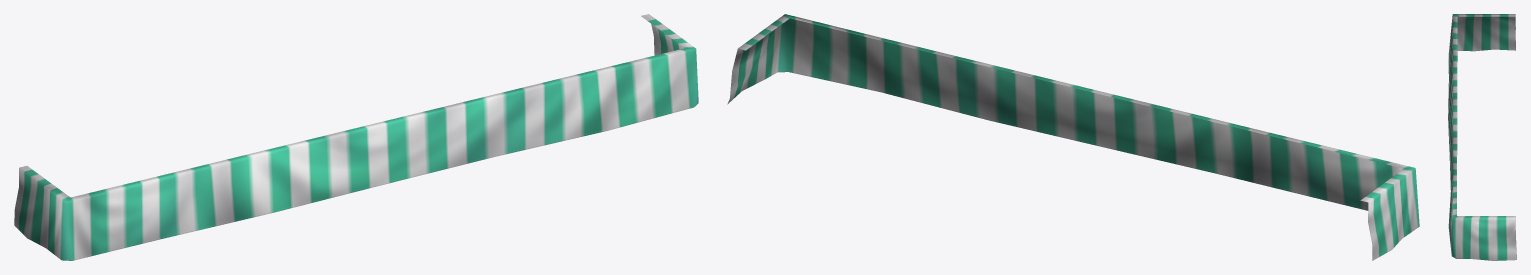
The model's file is jsf_BlindfoldCloth_4P_s04_01.fbx.
3 renders of one model, left to right at view 1: azimuth 30°, elevation 25°; view 2: azimuth 150°, elevation 25°; view 3: azimuth 270°, elevation 25°, orthographic. The views are drawn at different scales.
Visible parts, largest first — view 1: jsf_BlindfoldCloth_4P_s04_01; view 2: jsf_BlindfoldCloth_4P_s04_01; view 3: jsf_BlindfoldCloth_4P_s04_01.
Boxes of the visible parts, x1=… form: jsf_BlindfoldCloth_4P_s04_01: x1=14, y1=14, x2=698, y2=260; jsf_BlindfoldCloth_4P_s04_01: x1=727, y1=14, x2=1419, y2=260; jsf_BlindfoldCloth_4P_s04_01: x1=1448, y1=14, x2=1516, y2=260.
Size of the model in its own units: 353 by 30.11 by 48.69.
